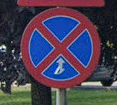oprirea_interzisa: (17, 5, 103, 89)
